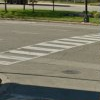crosswalk: (0, 32, 99, 65)
